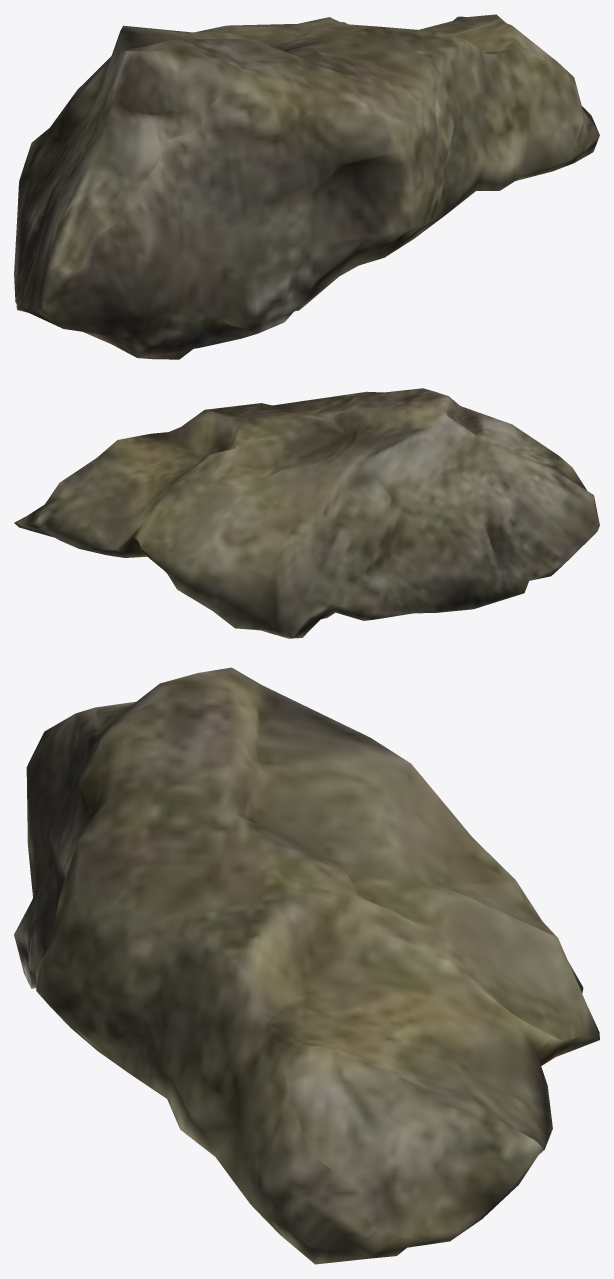
File: rock_moss_set_02_rock09.glb
3 renders of one model, top to bottom at view 1: azimuth 30°, elevation 25°; view 2: azimuth 150°, elevation 25°; view 3: azimuth 270°, elevation 25°, orthographic. The views are drawn at different scales.
Visible parts, largest first — view 1: rock_moss_set_02_rock09; view 2: rock_moss_set_02_rock09; view 3: rock_moss_set_02_rock09.
Part boxes in pixels (x1,y1,x2,y2): rock_moss_set_02_rock09: (14, 14, 599, 359); rock_moss_set_02_rock09: (14, 388, 599, 638); rock_moss_set_02_rock09: (14, 667, 599, 1264).
Size of the model in its own units: 1.63 by 0.601 by 1.01.
1 material, 1 textured.
